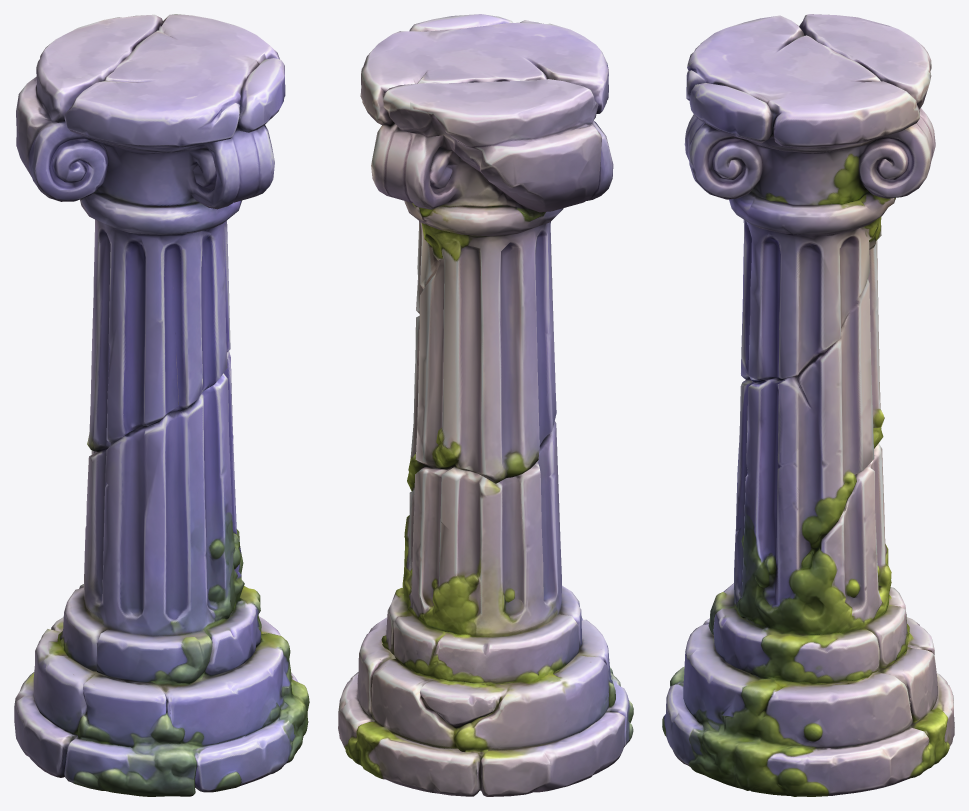
File: Kit_R_PillarB_HD_src.glb
3 renders of one model, left to right at view 1: azimuth 30°, elevation 25°; view 2: azimuth 150°, elevation 25°; view 3: azimuth 270°, elevation 25°, orthographic.
Parts seen in each view (by area): view 1: tripo_node_df636f6a-1d99-43d5-b9d6-53e5655ec177; view 2: tripo_node_df636f6a-1d99-43d5-b9d6-53e5655ec177; view 3: tripo_node_df636f6a-1d99-43d5-b9d6-53e5655ec177.
Part boxes in pixels (<box>): tripo_node_df636f6a-1d99-43d5-b9d6-53e5655ec177: <box>14,14,309,796</box>; tripo_node_df636f6a-1d99-43d5-b9d6-53e5655ec177: <box>338,14,633,796</box>; tripo_node_df636f6a-1d99-43d5-b9d6-53e5655ec177: <box>662,14,954,796</box>.
Size of the model in its own units: 0.3884 by 0.9797 by 0.3828.
Materials: 1 (1 with a texture image).
